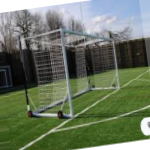goals: (23, 27, 124, 120)
